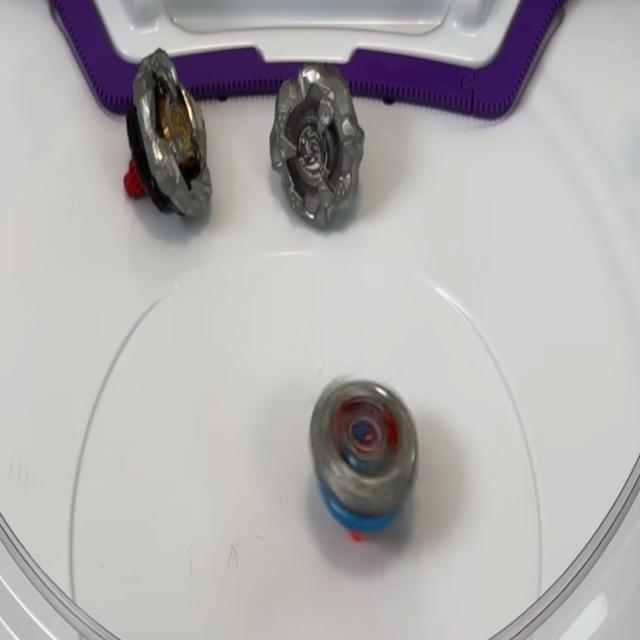Beyblade: (306, 374, 422, 544), (268, 62, 364, 228), (125, 50, 214, 222)
